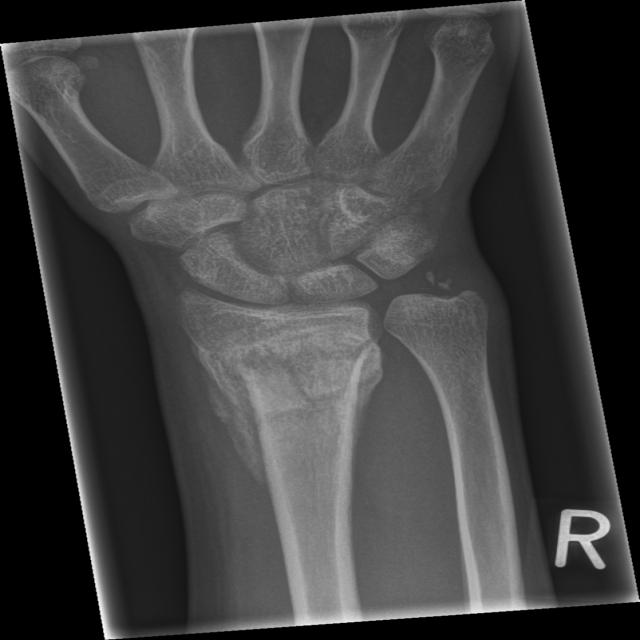radius fracture: (172, 330, 391, 534)
